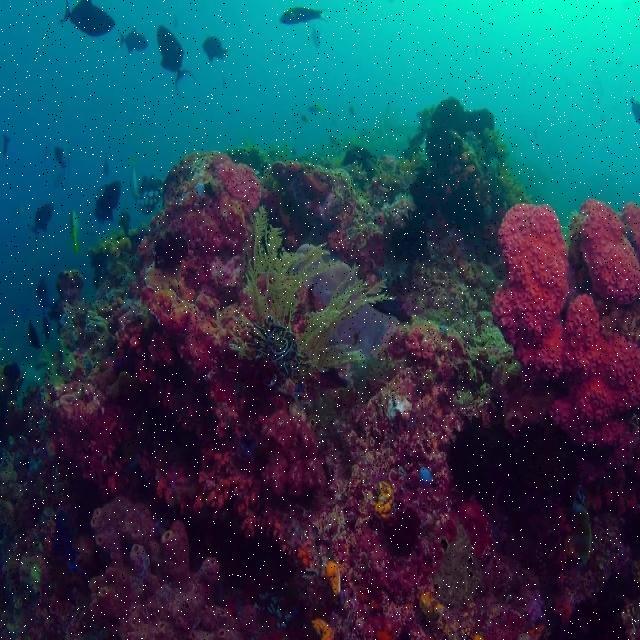aquatic plants: (216, 205, 396, 399)
fish: (157, 27, 195, 93), (59, 0, 115, 34), (282, 9, 328, 27), (32, 201, 53, 238), (201, 36, 229, 63), (117, 28, 148, 52)
reefs: (495, 200, 639, 470)
